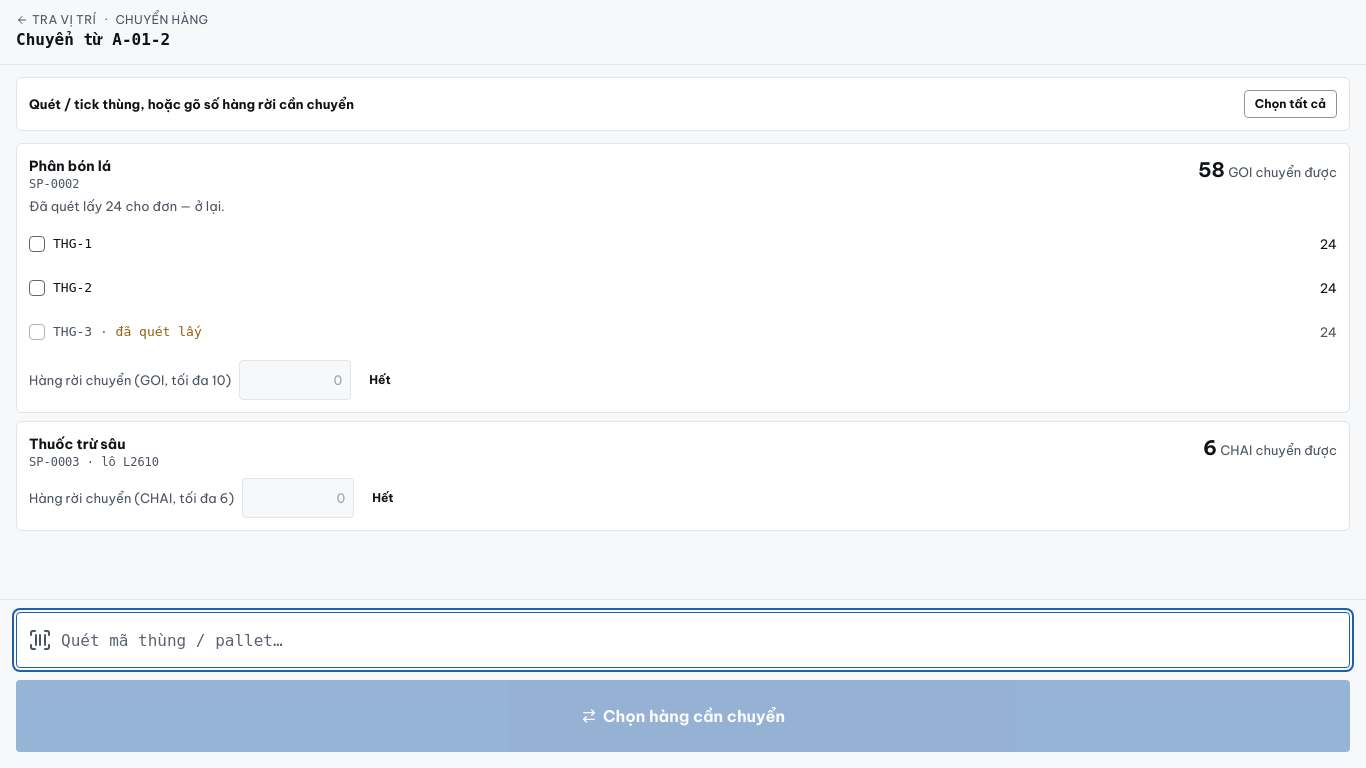
Test: Chuyển hàng web (LOC-8) › hàng rời vượt phần chuyển được → nút khoá; quét thùng đã lấy → báo; quét chính vị trí nguồn → báo
Check: the list named "Hàng chuyển được" is shown, box [16,143,1350,531]
Type "THG-3" into the field labelled "Quét mã thùng / pallet…" at (683,640), box [16,612,1350,668]
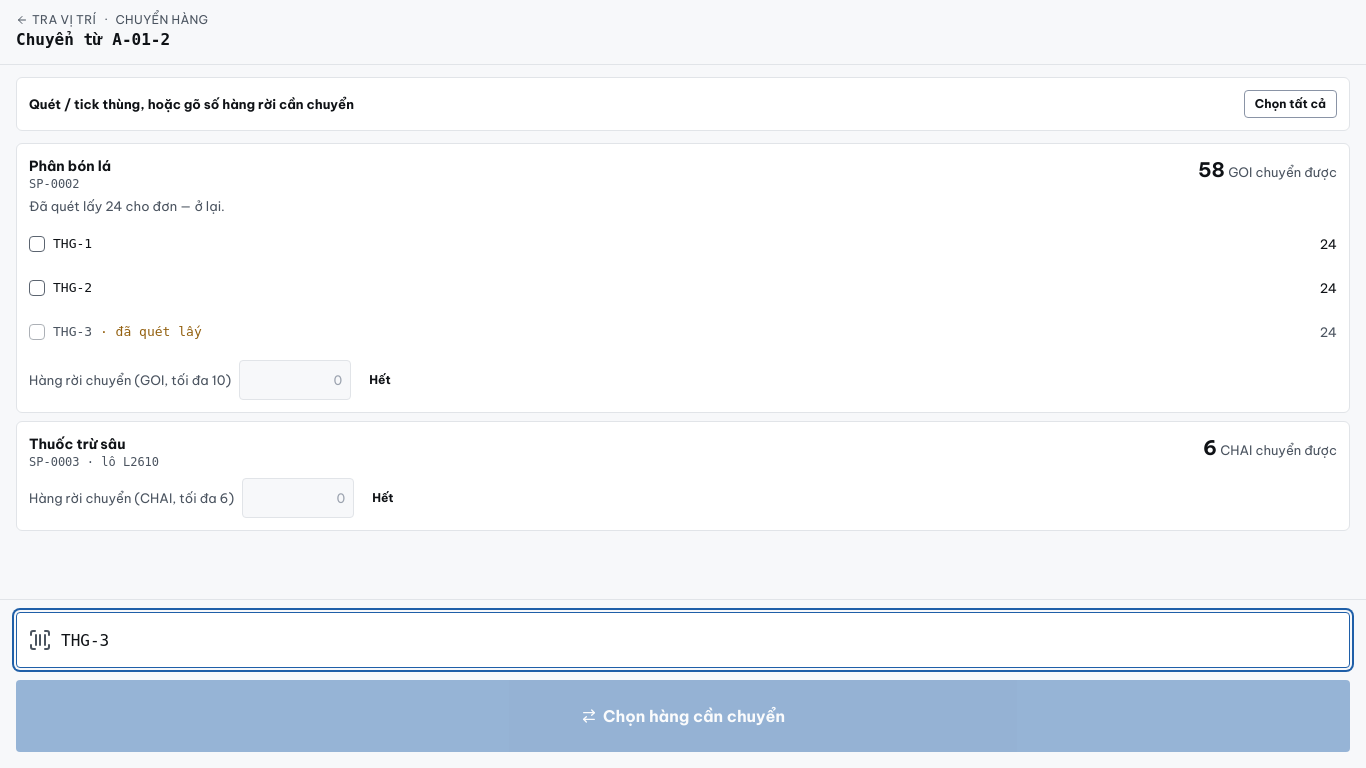
Press Enter in the field named "Quét", box [16,612,1350,668]
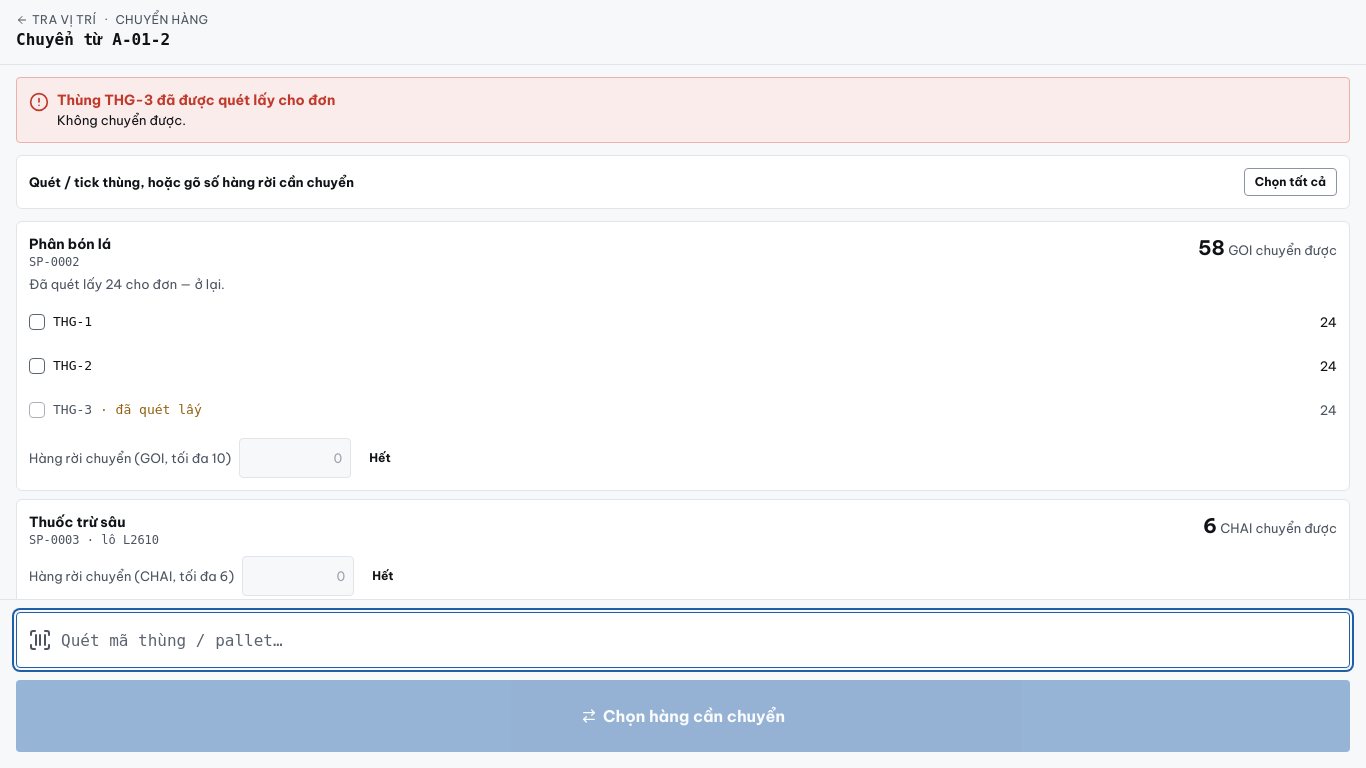
Check: the text "Thùng THG-3 đã được quét lấy cho đơn" is shown, box [57,90,335,110]
Type "7" into the field named "Hàng rời SP-0003 chuyển" at (298,576), box [242,556,354,596]
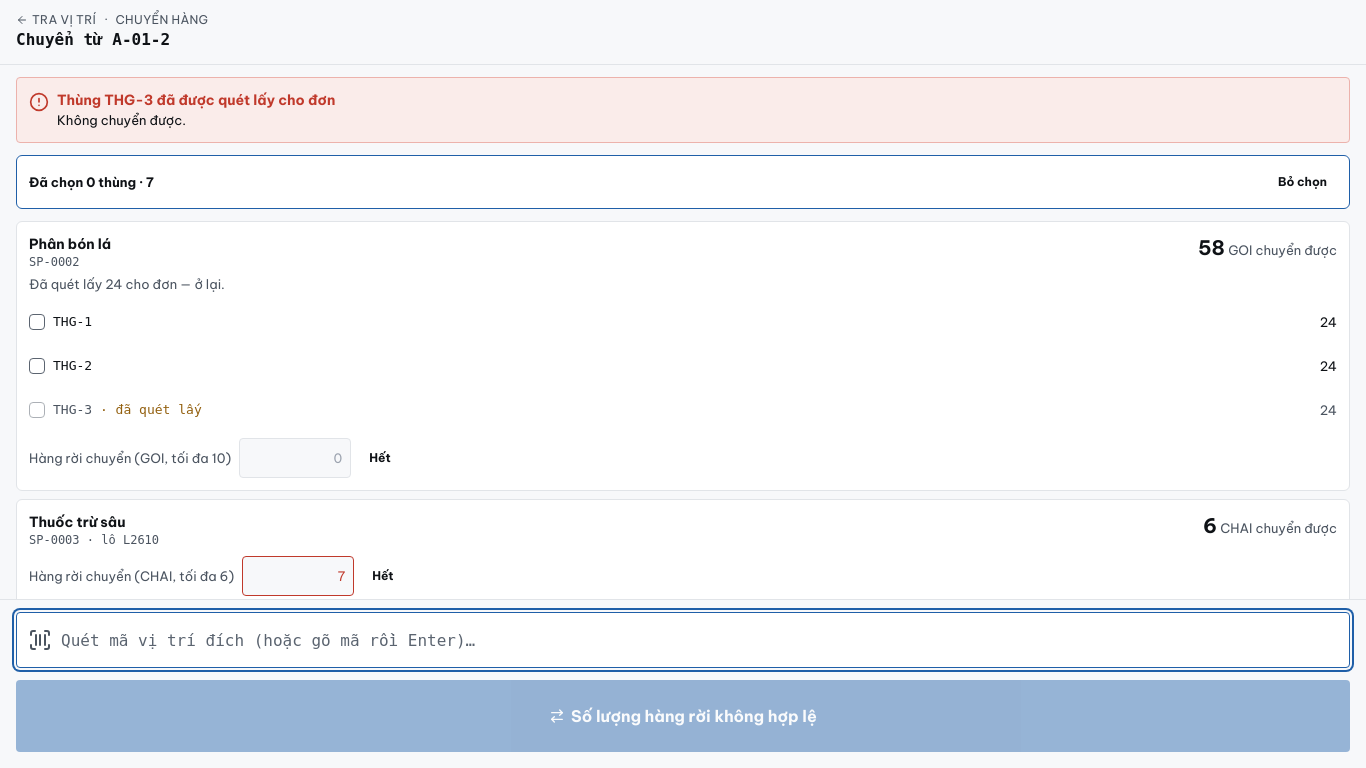
Check: the button "Số lượng hàng rời không hợp lệ" is disabled, box [16,680,1350,752]
Replace the text in the field named "Hàng rời SP-0003 chuyển" with "6" at (298,576), box [242,556,354,596]
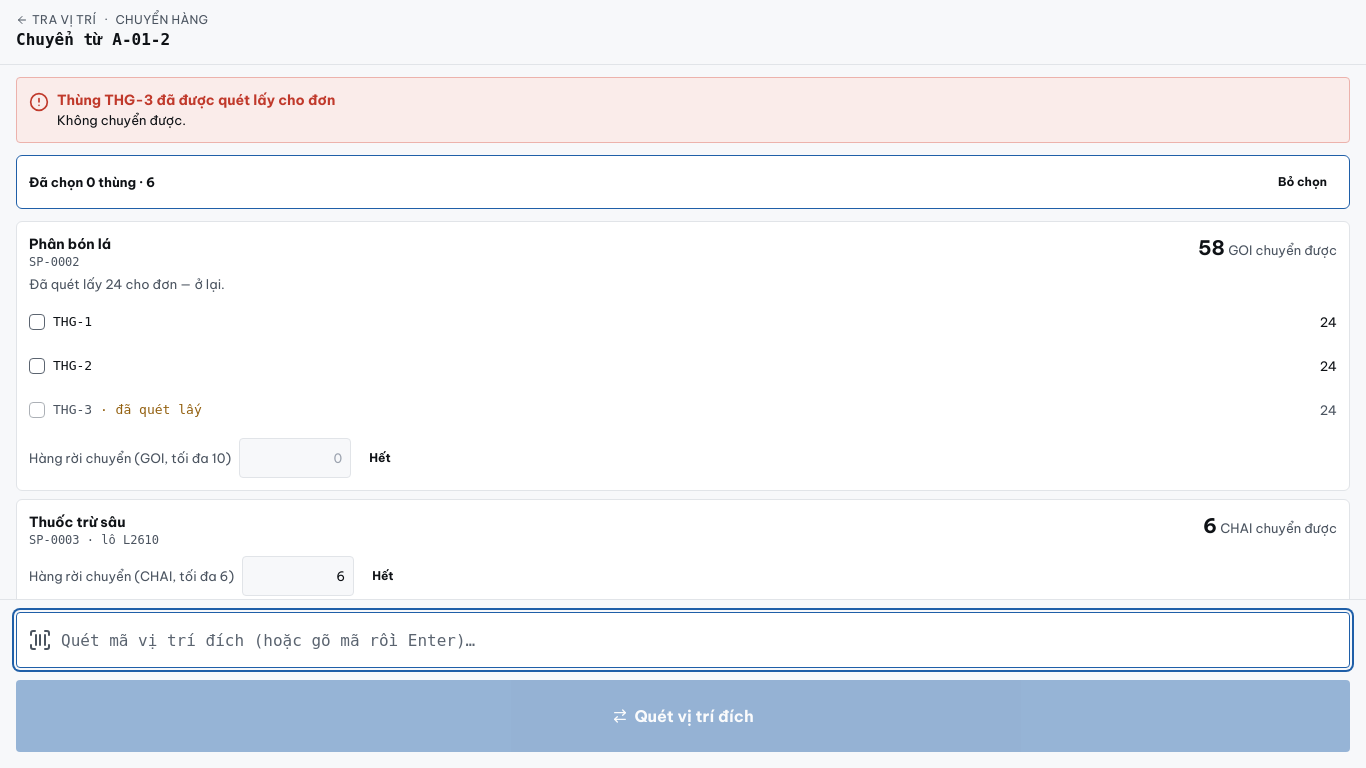
Type "LOC-A-01-2" into the field labelled "Quét mã vị trí đích (hoặc gõ mã rồi Enter)…" at (683,640), box [16,612,1350,668]
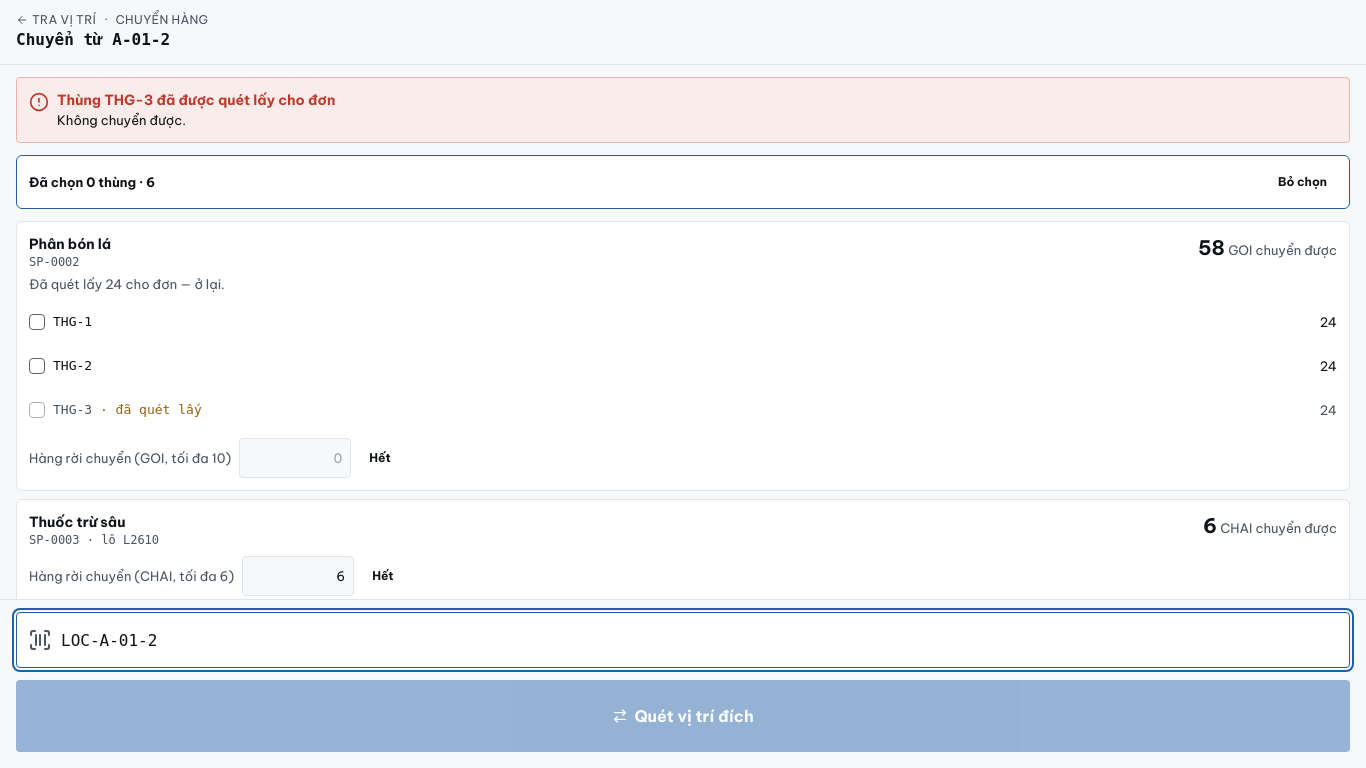
Press Enter in the field named "Quét", box [16,612,1350,668]
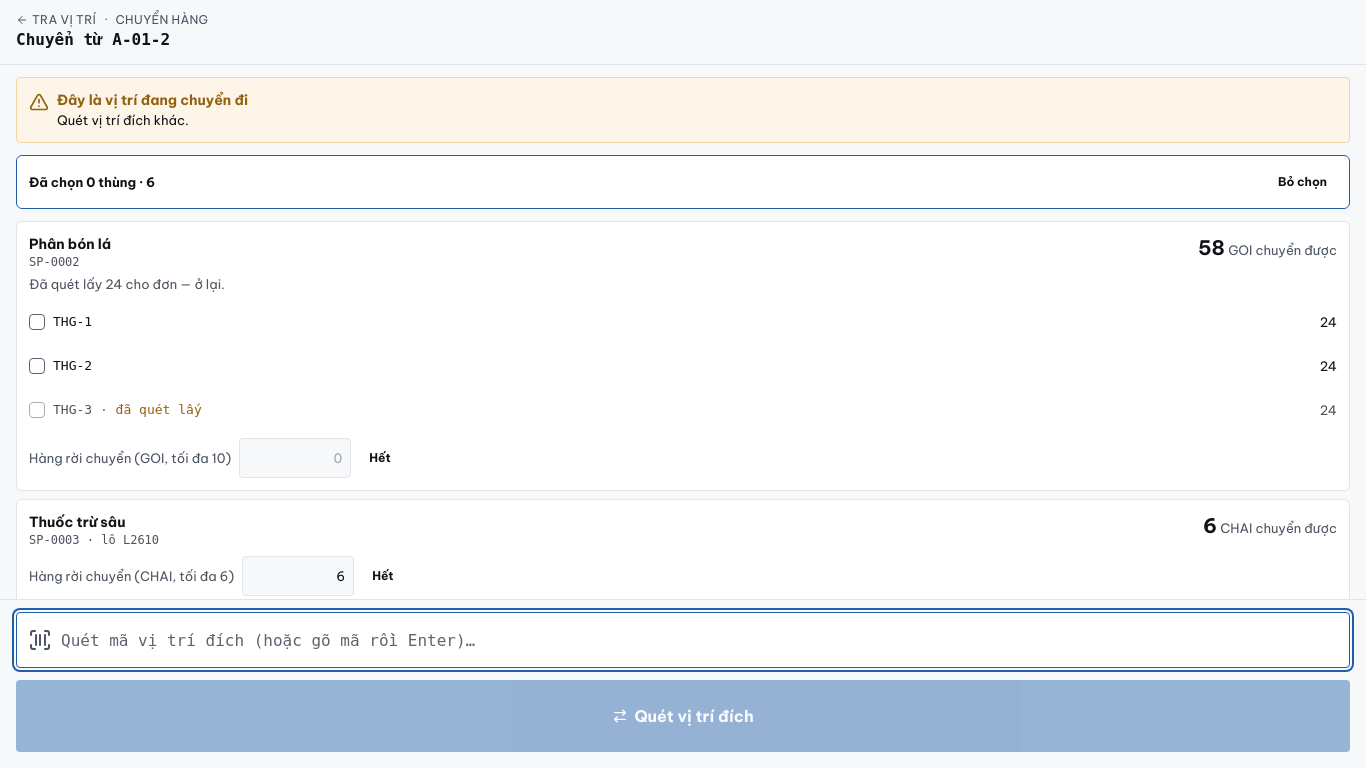
Check: the text "Đây là vị trí đang chuyển đi" is shown, box [57,90,248,110]
